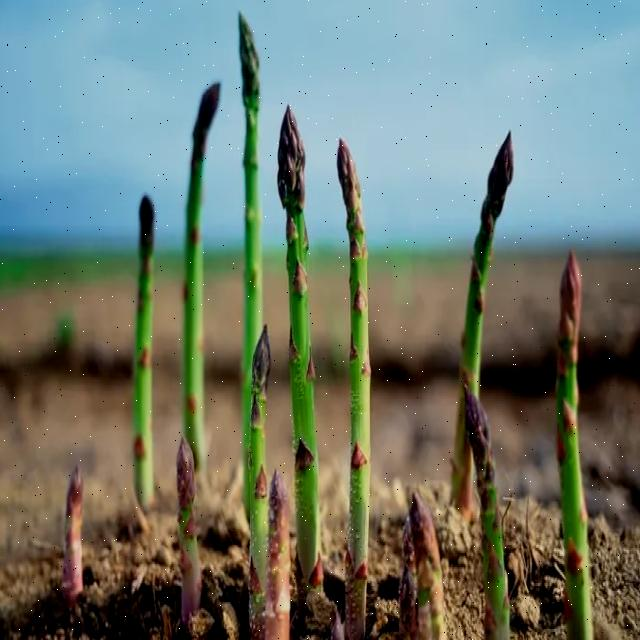aspargus: (277, 111, 322, 637), (336, 128, 373, 640)
